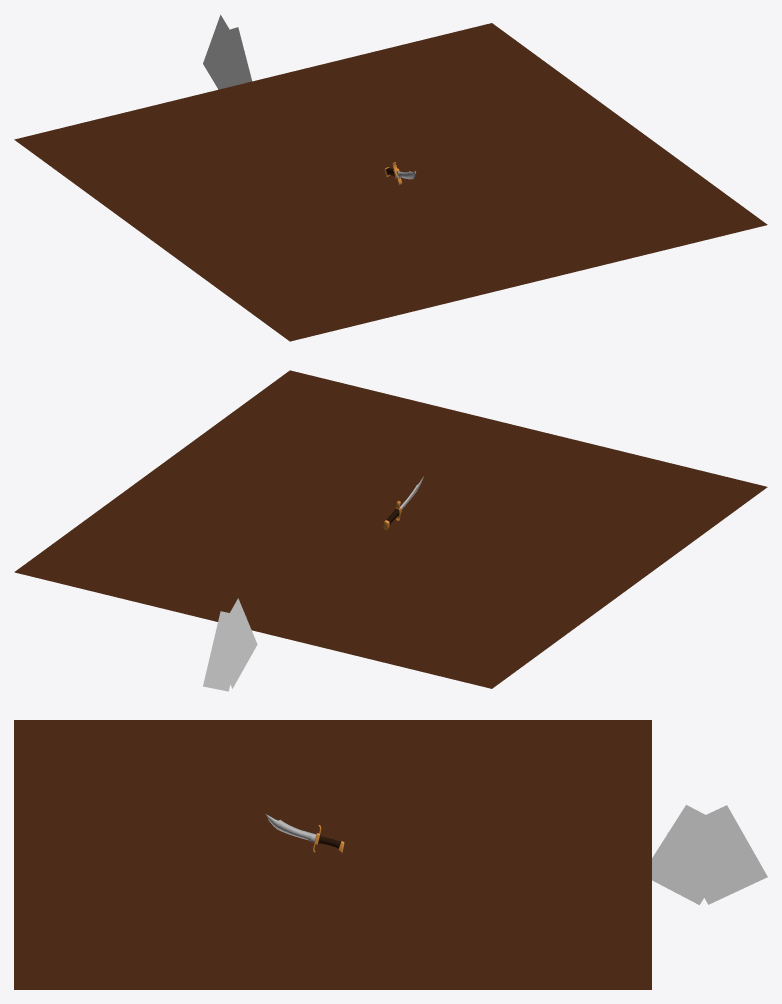
File: Shahanshah001.glb
The picture shows the model from 3 angles, top to bottom: view 1: azimuth 30°, elevation 25°; view 2: azimuth 150°, elevation 25°; view 3: azimuth 270°, elevation 25°; orthographic projection. The views are drawn at different scales.
Parts seen in each view (by area): view 1: Plane, Tf2_shahanshah, Tf2_shahanshah_2; view 2: Plane, Tf2_shahanshah, Tf2_shahanshah_2; view 3: Plane, Tf2_shahanshah_2, Tf2_shahanshah.
Part boxes in pixels (<box>): Plane: <box>14,23,767,341</box>; Tf2_shahanshah: <box>203,14,246,89</box>; Tf2_shahanshah_2: <box>213,27,251,86</box>; Plane: <box>14,370,767,688</box>; Tf2_shahanshah: <box>203,611,246,691</box>; Tf2_shahanshah_2: <box>213,598,257,688</box>; Plane: <box>14,720,651,989</box>; Tf2_shahanshah_2: <box>652,805,726,904</box>; Tf2_shahanshah: <box>667,805,767,904</box>.
Size of the model in its own units: 9.51 by 1.65 by 11.24.
